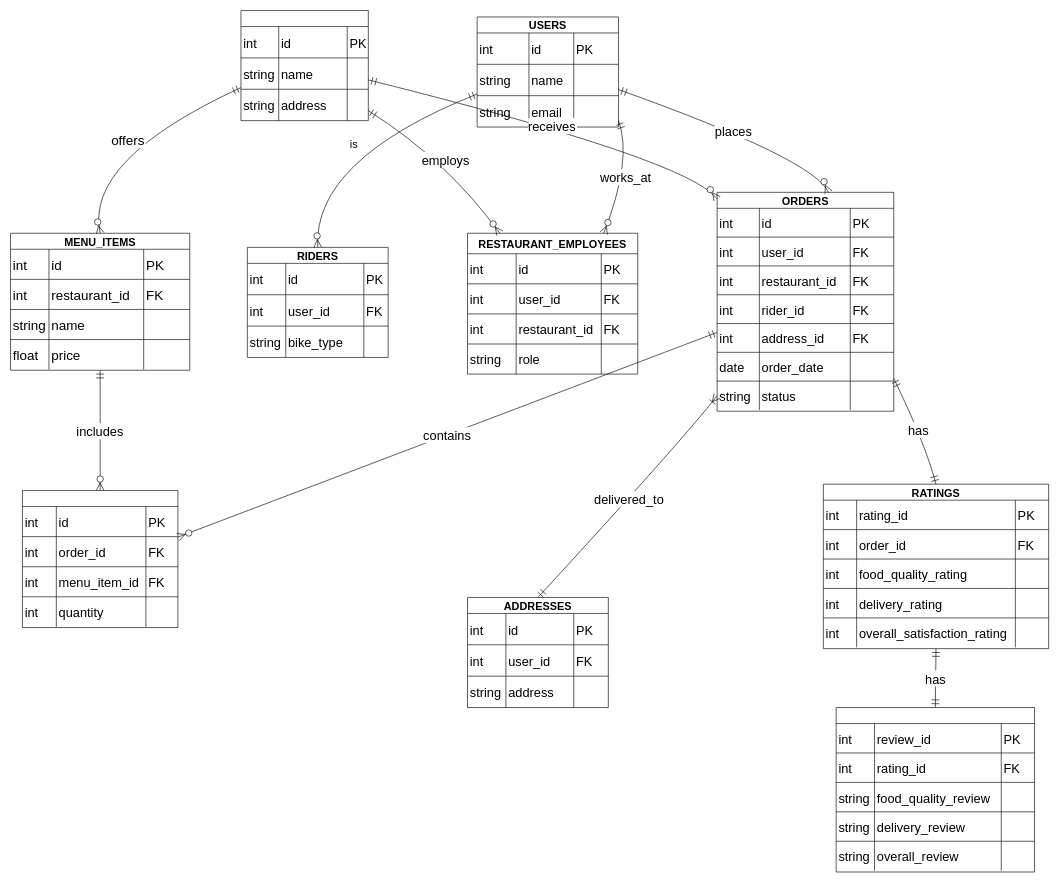
The diagram is 1059 pixels wide and 883 high, and some of its shapes have lost their labels. The box of each missing label's shape, as (x1, y1, x2, y2) in pixels:
ORDER_ITEMS: (22, 490, 178, 628)
RESTAURANTS: (240, 10, 368, 121)
REVIEWS: (836, 707, 1035, 872)
